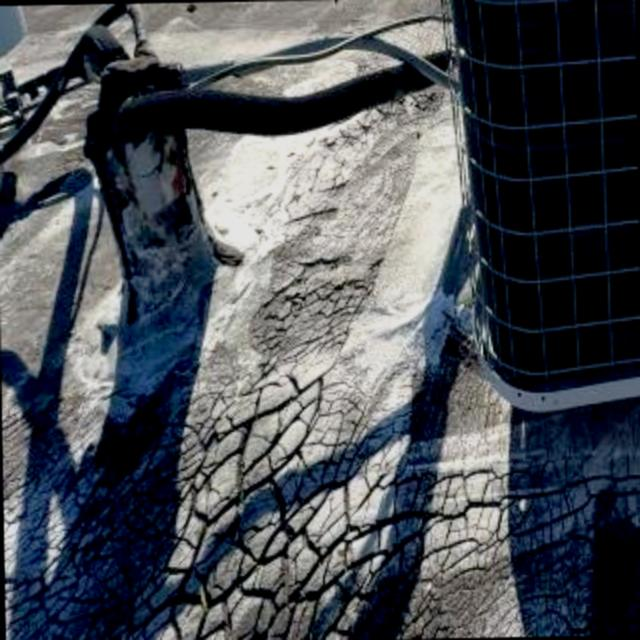SPLIT-SYSTEM: (412, 0, 640, 420)
